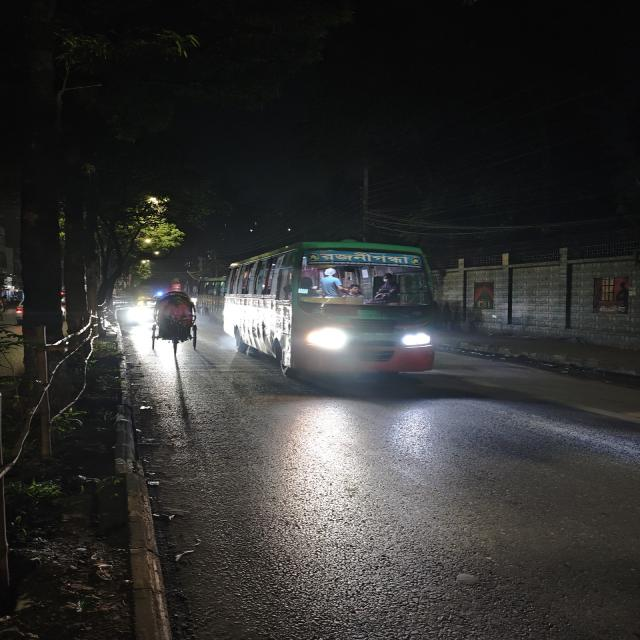bus: (224, 237, 442, 389)
rickshaw: (147, 288, 202, 351)
